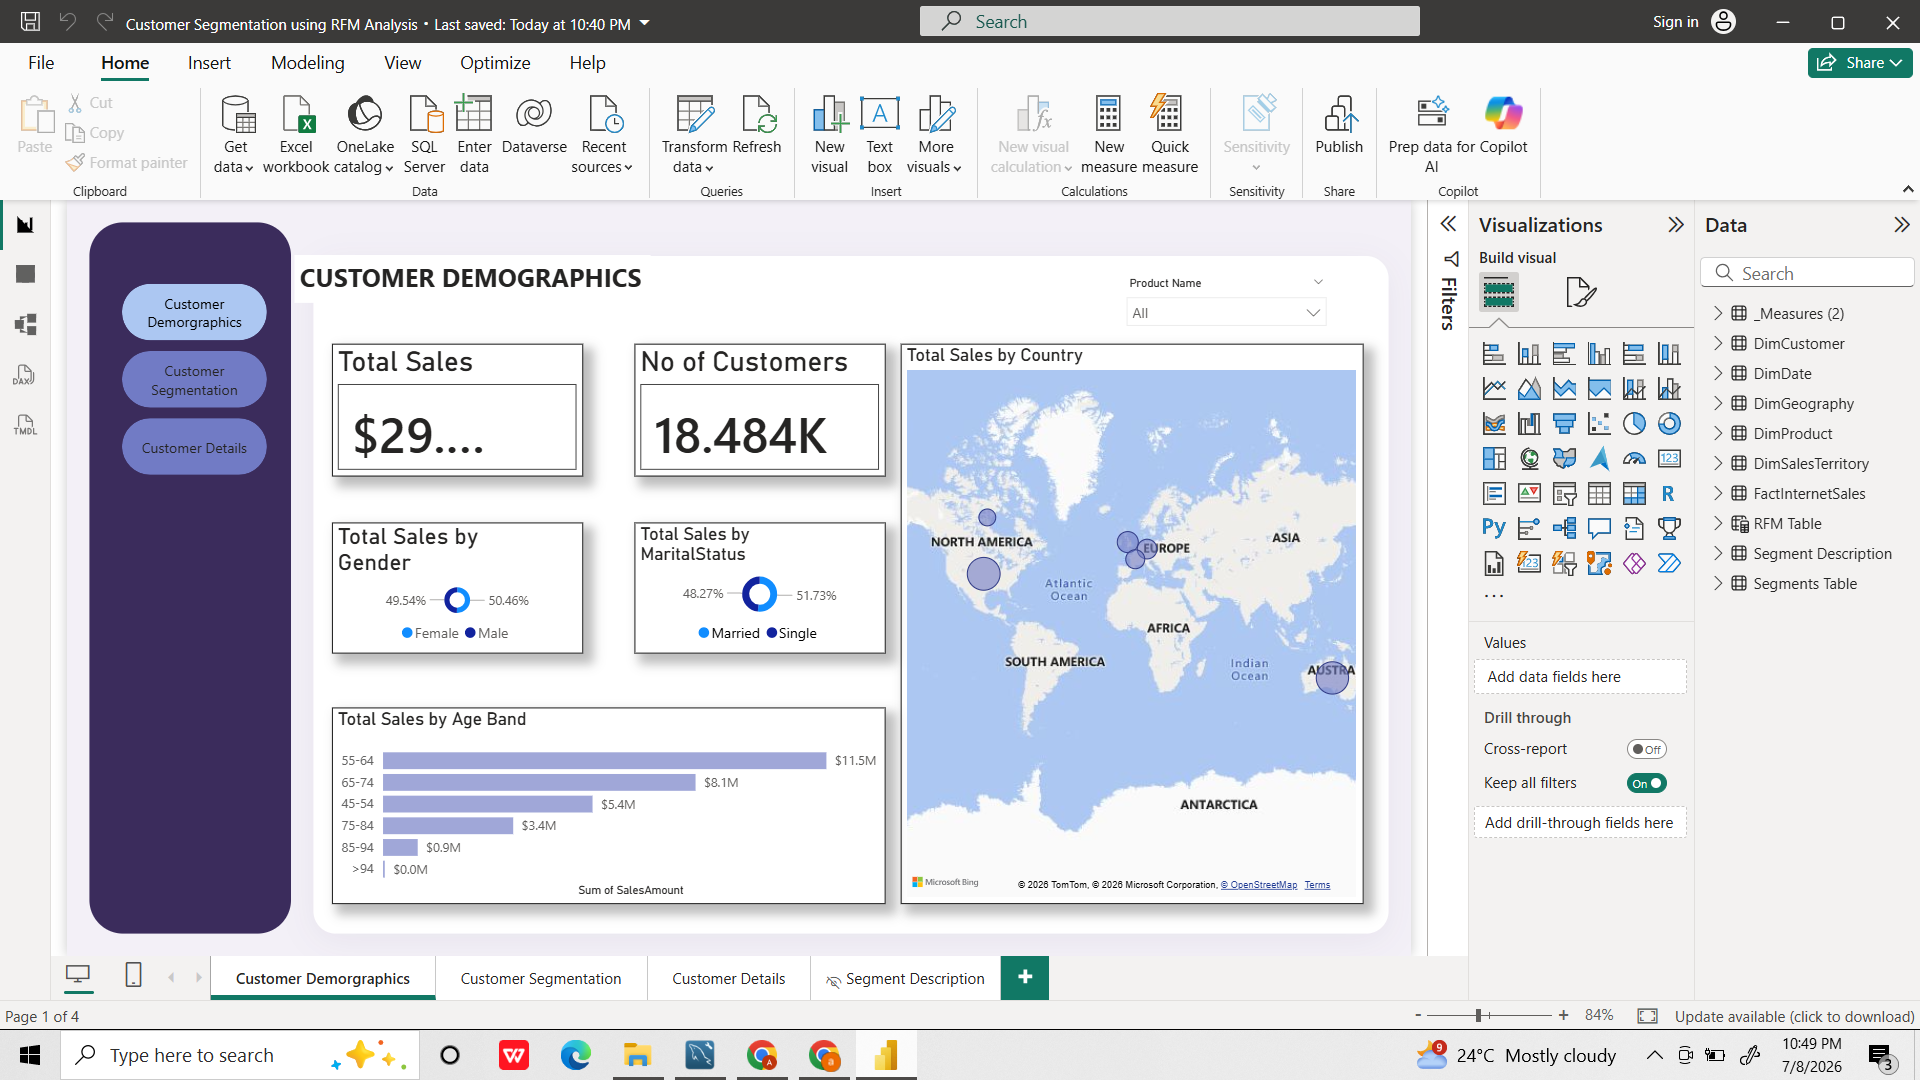

The page's visual inventory and layout, read from the dashboard file:
{"tool":"powerbi","page":{"name":"Customer Demorgraphics","canvas":[1280,720],"ordinal":0},"visuals":[{"type":"cardVisual","title":"Total Sales","fields":{"Data":["Sum(FactInternetSales.SalesAmount)"]},"box":[252.4,136.9,239.3,126.2],"z":0},{"type":"cardVisual","title":"No of Customers","fields":{"Data":["Count(FactInternetSales.CustomerKey)"]},"box":[540.5,136.9,239.3,126.2],"z":1000},{"type":"donutChart","fields":{"Y":["Sum(FactInternetSales.SalesAmount)"],"Category":["DimCustomer.Gender"]},"box":[252.4,307.1,239.3,125],"z":2000},{"type":"donutChart","fields":{"Y":["Sum(FactInternetSales.SalesAmount)"],"Category":["DimCustomer.MaritalStatus"]},"box":[540.5,307.1,239.3,125],"z":3000},{"type":"barChart","title":"Total Sales by Age Band","fields":{"Category":["DimCustomer.Age Band"],"Y":["Sum(FactInternetSales.SalesAmount)"]},"box":[252.4,483.3,527.4,186.9],"z":4000},{"type":"map","fields":{"Category":["DimGeography.Country"],"Size":["Sum(FactInternetSales.SalesAmount)"]},"box":[794.1,136.9,440.5,533.3],"z":5000},{"type":"textbox","box":[216.5,52.9,339.2,45.7],"z":6000},{"type":"slicer","fields":{"Values":["DimProduct.Product Name"]},"box":[998.8,67.9,210.7,58.3],"z":7000},{"type":"pageNavigator","box":[52.4,79.8,138.1,183.3],"z":8000}]}

Visuals, with their boxes on the page's 1280x720 design canvas (x1, y1, x2, y2). These are canvas units, not pixel positions in the 1920x1080 screenshot, which may show the page scaled, cropped or inside an application window:
"Total Sales" cardVisual: [252,137,492,263]
"No of Customers" cardVisual: [540,137,780,263]
donutChart - Sum(FactInternetSales.SalesAmount) x DimCustomer.Gender: [252,307,492,432]
donutChart - Sum(FactInternetSales.SalesAmount) x DimCustomer.MaritalStatus: [540,307,780,432]
"Total Sales by Age Band" barChart: [252,483,780,670]
map - DimGeography.Country x Sum(FactInternetSales.SalesAmount): [794,137,1235,670]
textbox: [216,53,556,99]
slicer - DimProduct.Product Name: [999,68,1210,126]
pageNavigator: [52,80,190,263]
